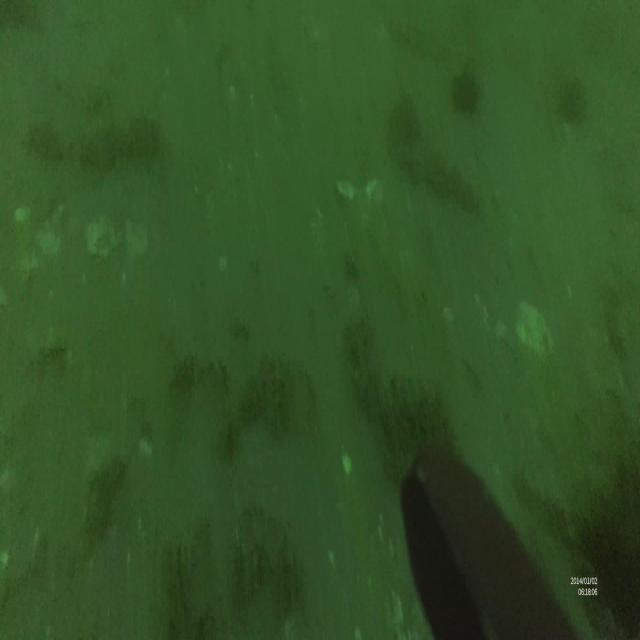holothurian: (449, 65, 480, 118)
